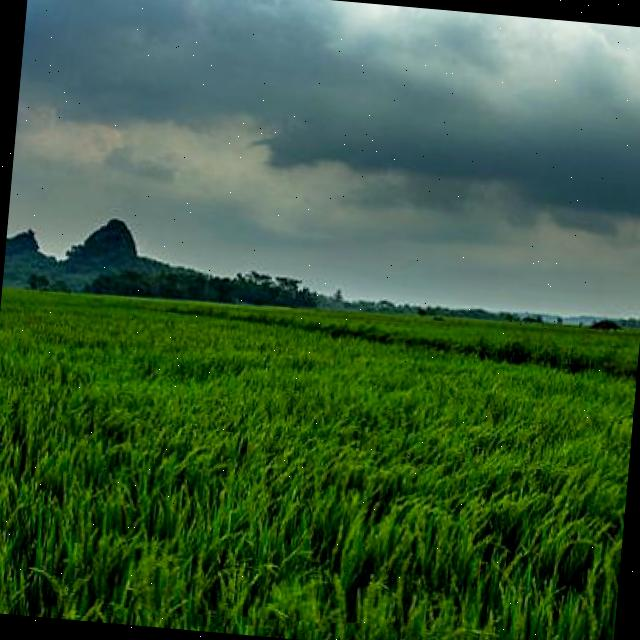Ns: (10, 1, 640, 257)
